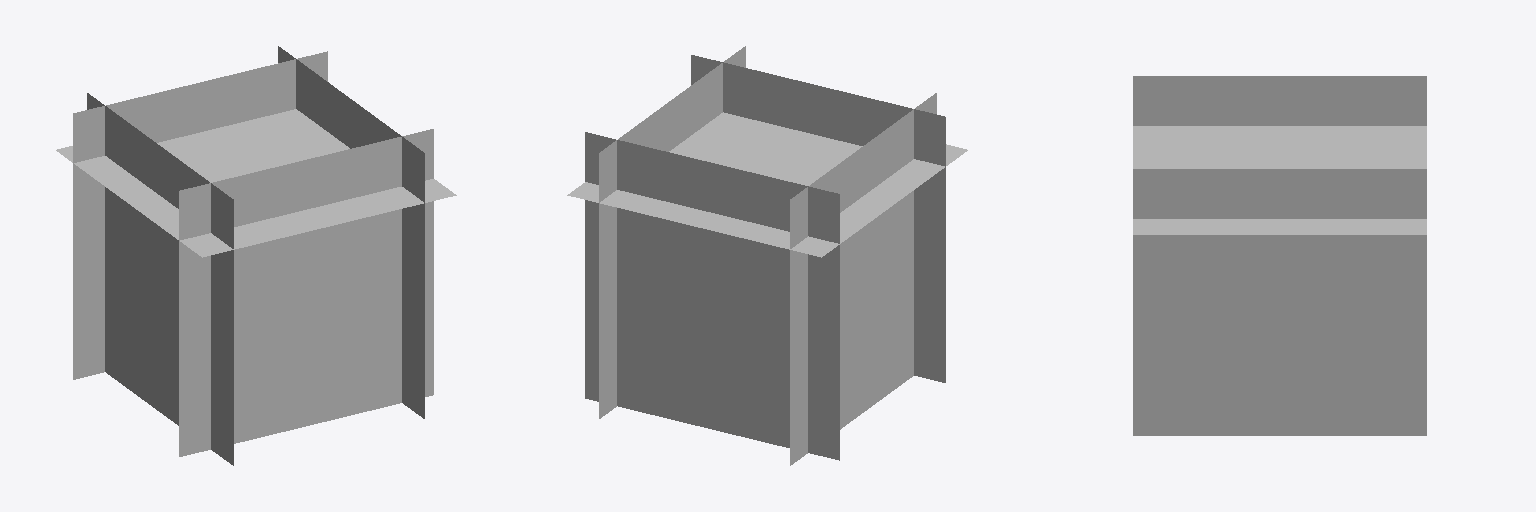
The model's file is berryBush.obj.
The picture shows the model from 3 angles: view 1: azimuth 30°, elevation 25°; view 2: azimuth 150°, elevation 25°; view 3: azimuth 270°, elevation 25°; orthographic projection.
Visible parts, largest first — view 1: westFace, northFace, eastFace, topFace, southFace, bottomFace; view 2: westFace, eastFace, southFace, northFace, bottomFace, topFace; view 3: southFace, northFace, bottomFace, topFace.
Boxes of the visible parts, x1=… form: westFace: x1=73, y1=53, x2=433, y2=456; northFace: x1=88, y1=47, x2=424, y2=465; eastFace: x1=73, y1=51, x2=433, y2=455; topFace: x1=56, y1=109, x2=456, y2=256; southFace: x1=87, y1=46, x2=424, y2=464; bottomFace: x1=57, y1=110, x2=455, y2=257; westFace: x1=585, y1=55, x2=945, y2=459; eastFace: x1=585, y1=55, x2=945, y2=460; southFace: x1=599, y1=46, x2=936, y2=465; northFace: x1=599, y1=49, x2=936, y2=464; bottomFace: x1=568, y1=112, x2=966, y2=257; topFace: x1=567, y1=113, x2=967, y2=256; southFace: x1=1133, y1=76, x2=1426, y2=435; northFace: x1=1133, y1=76, x2=1426, y2=435; bottomFace: x1=1133, y1=126, x2=1426, y2=234; topFace: x1=1133, y1=126, x2=1426, y2=234.
Bounding box in the file's own units: 1 × 1 × 1.